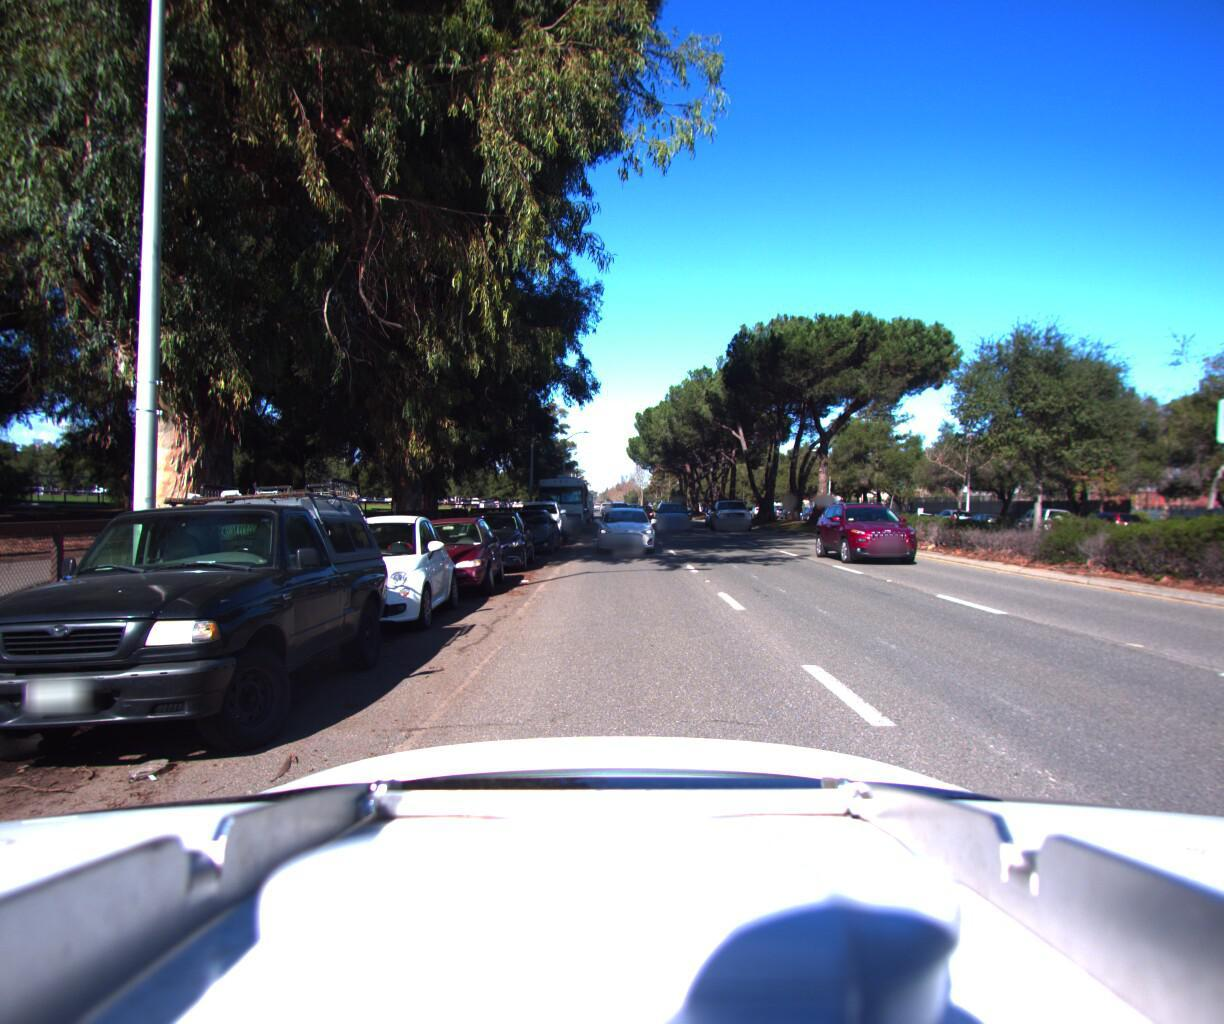car: (282, 510, 460, 640), (378, 513, 512, 607), (818, 496, 952, 569), (440, 506, 537, 577), (488, 504, 566, 558), (590, 499, 657, 553), (510, 496, 569, 546), (1003, 504, 1077, 537), (707, 494, 759, 530), (652, 496, 695, 529), (923, 504, 976, 529), (604, 498, 630, 523)
other_vehicle: (528, 467, 587, 532), (553, 484, 592, 521)
